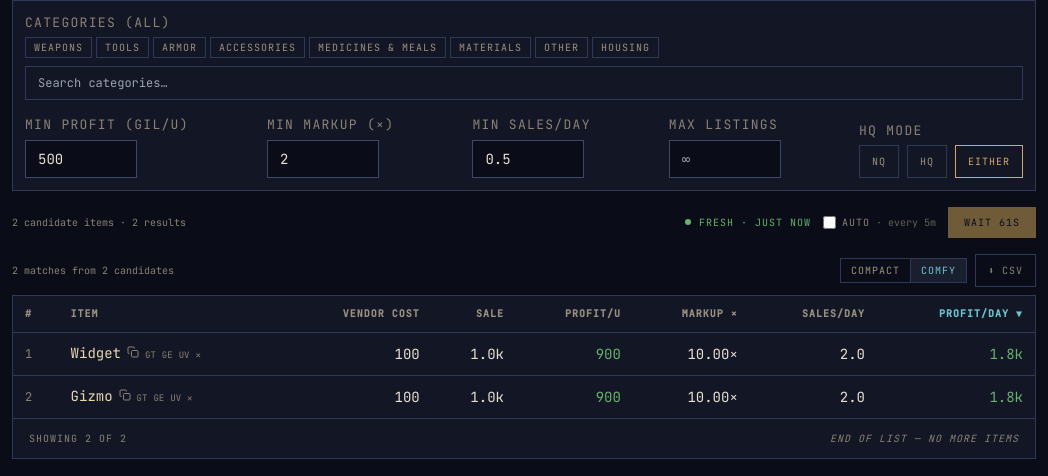
Test: VendorFlipView › updates results live when Min profit is raised — no refetch
The width and height of the screenshot is (1048, 476).
expect the link "Widget" is shown: met, box [71, 342, 121, 362]
Replace the text in the number field labelled "Min profit (gil/u)" with "5000": point(81, 158) [25, 140, 137, 178]
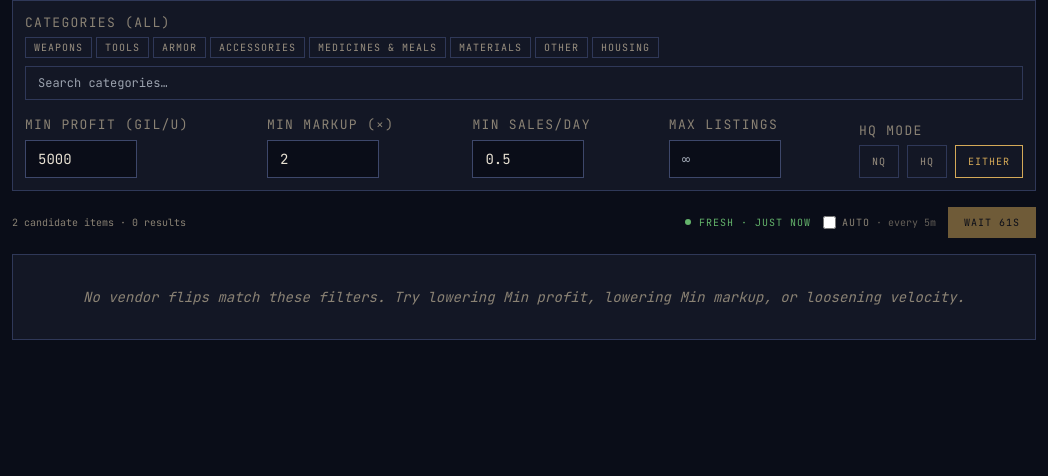
expect the link "Widget" is gone: met
